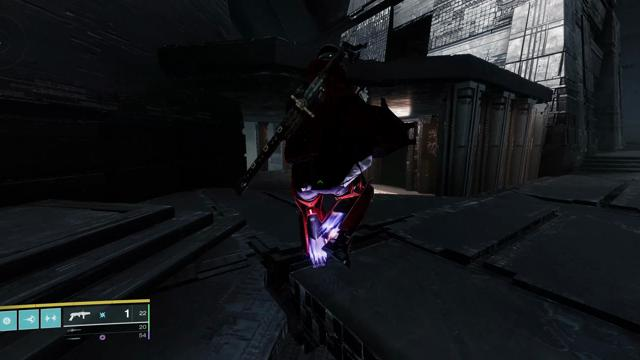kill: (427, 127, 437, 157)
